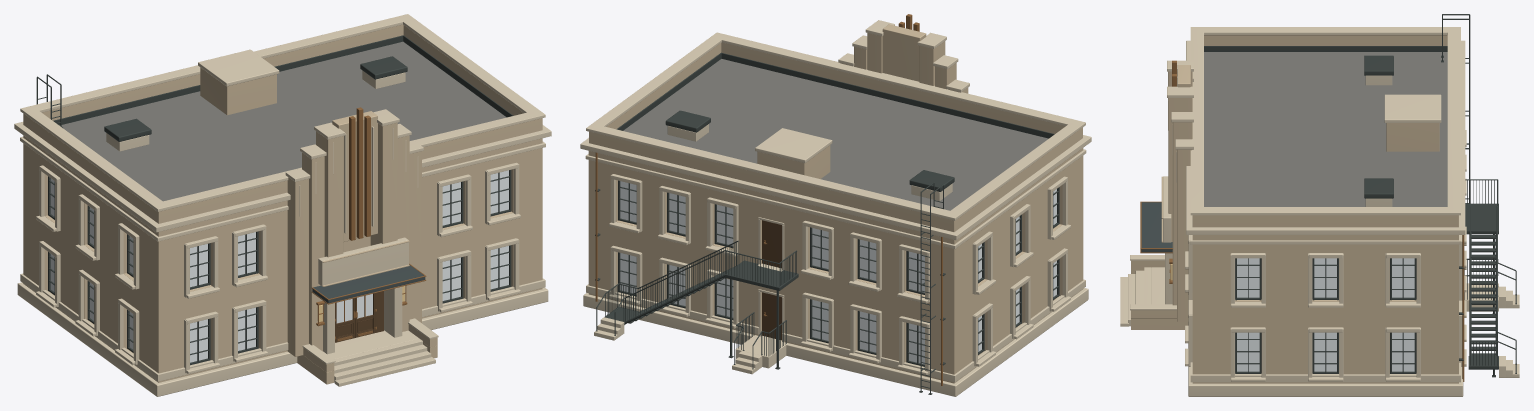
The model's file is StudioAdministration_01.fbx.
The picture shows the model from 3 angles, left to right: view 1: azimuth 30°, elevation 25°; view 2: azimuth 150°, elevation 25°; view 3: azimuth 270°, elevation 25°; orthographic projection. The views are drawn at different scales.
Visible parts, largest first — view 1: Export_ExteriorShell, Export_Roof, Export_ArchitecturalDetails, Export_Windows, Export_Glass, Export_SignageArea, Export_Doors; view 2: Export_Roof, Export_ExteriorShell, Export_Windows, Export_ArchitecturalDetails, Export_FireEscape, Export_Glass, Export_Doors; view 3: Export_Roof, Export_ExteriorShell, Export_ArchitecturalDetails, Export_Windows, Export_FireEscape, Export_Glass, Export_SignageArea.
Part boxes in pixels (x1,y1,x2,y2): Export_ExteriorShell: (17,109,548,396); Export_Roof: (20,14,545,223); Export_ArchitecturalDetails: (14,107,551,386); Export_Windows: (36,162,520,374); Export_Glass: (50,170,508,362); Export_SignageArea: (318,237,409,286); Export_Doors: (335,291,386,342); Export_Roof: (586,32,1085,231); Export_ExteriorShell: (583,20,1088,396); Export_Windows: (609,174,1070,374); Export_ArchitecturalDetails: (580,14,1091,385); Export_FireEscape: (594,182,943,394); Export_Glass: (620,181,1056,364); Export_Doors: (758,217,784,343); Export_Roof: (1190,27,1460,227); Export_ExteriorShell: (1167,60,1463,396); Export_ArchitecturalDetails: (1120,40,1465,382); Export_Windows: (1185,130,1466,381); Export_FireEscape: (1441,14,1519,377); Export_Glass: (1237,258,1414,371); Export_SignageArea: (1161,176,1171,242).
Size of the model in its own units: 18.64 by 11.03 by 16.5.
